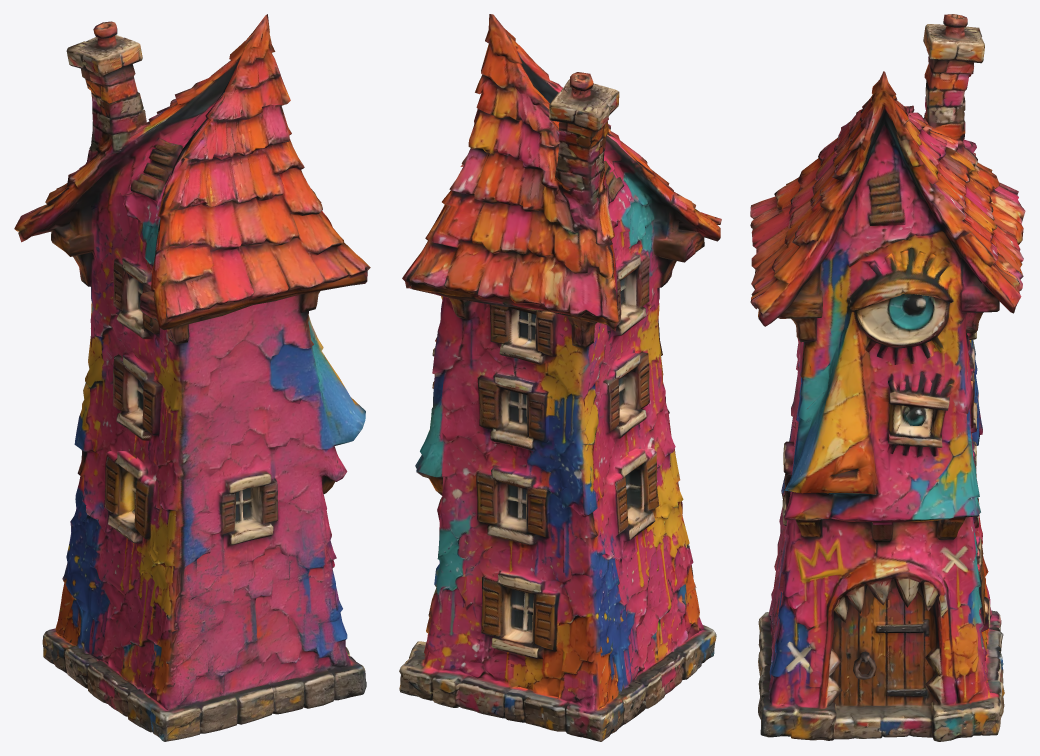
File: house_tall.glb
3 renders of one model, left to right at view 1: azimuth 30°, elevation 25°; view 2: azimuth 150°, elevation 25°; view 3: azimuth 270°, elevation 25°, orthographic.
Visible parts, largest first — view 1: house_tall; view 2: house_tall; view 3: house_tall.
Boxes of the visible parts, box(x1,y1,x2,y2) form: house_tall: box(14, 14, 370, 741); house_tall: box(399, 14, 721, 741); house_tall: box(750, 14, 1025, 741).
Bounding box in the file's own units: 4.8 × 12 × 4.63.
Materials: 1 (1 with a texture image).
